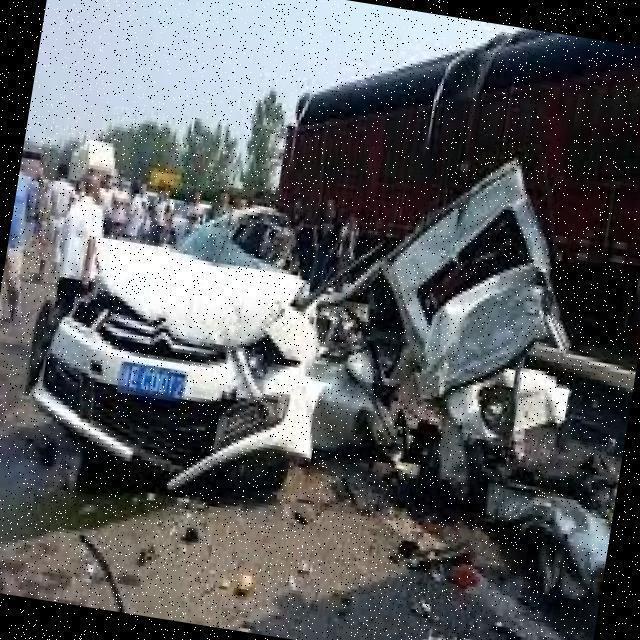accident: (6, 92, 606, 568)
